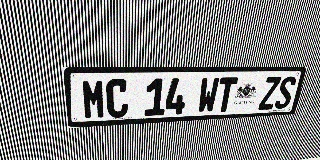1: (144, 78, 167, 116)
4: (165, 78, 187, 115)
C: (106, 79, 128, 118)
M: (81, 79, 106, 119)
S: (274, 76, 297, 109)
T: (215, 77, 238, 112)
W: (197, 77, 220, 113)
Z: (258, 77, 282, 110)
